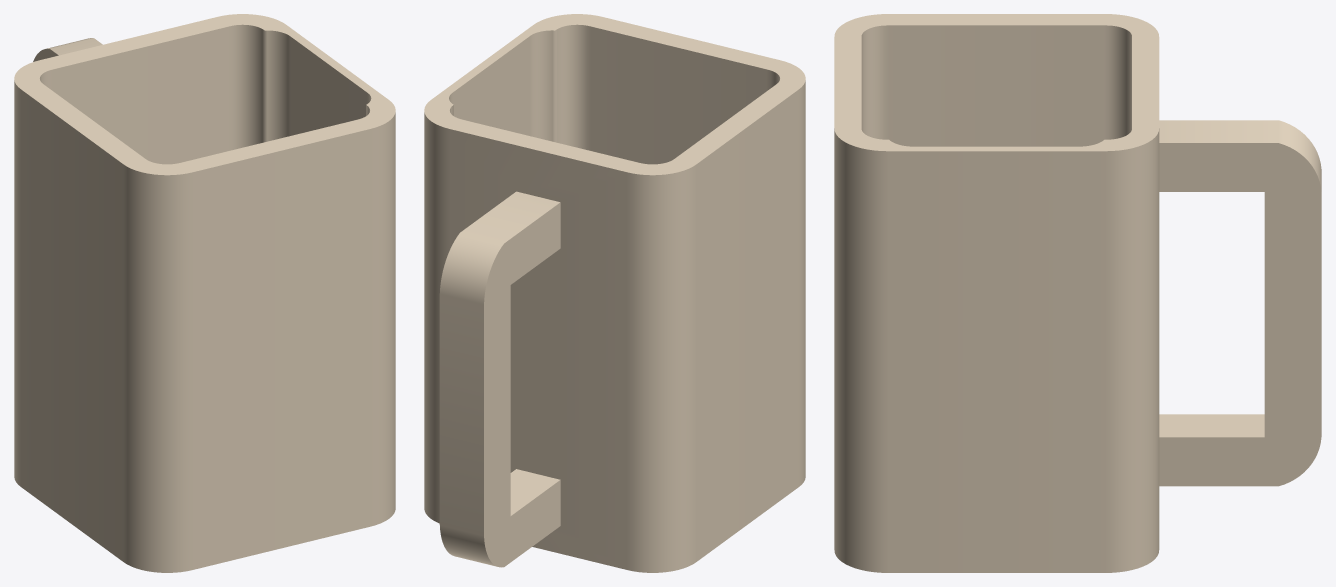
3 views of the same model, side by side, from view 1: azimuth 30°, elevation 25°; view 2: azimuth 150°, elevation 25°; view 3: azimuth 270°, elevation 25° (orthographic). The views are drawn at different scales.
Parts seen in each view (by area): view 1: mesh21_mesh21-geometry; view 2: mesh21_mesh21-geometry; view 3: mesh21_mesh21-geometry.
Part boxes in pixels (<box>): mesh21_mesh21-geometry: <box>14,14,395,572</box>; mesh21_mesh21-geometry: <box>424,14,805,572</box>; mesh21_mesh21-geometry: <box>834,14,1321,572</box>.
Size of the model in its own units: 0.4342 by 0.6223 by 0.6513.
